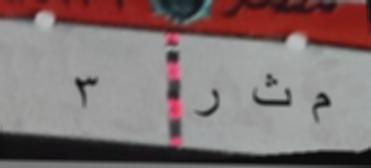3: (72, 68, 103, 113)
meem: (302, 88, 332, 130)
raa: (195, 81, 222, 121)
thaa: (251, 67, 294, 112)
